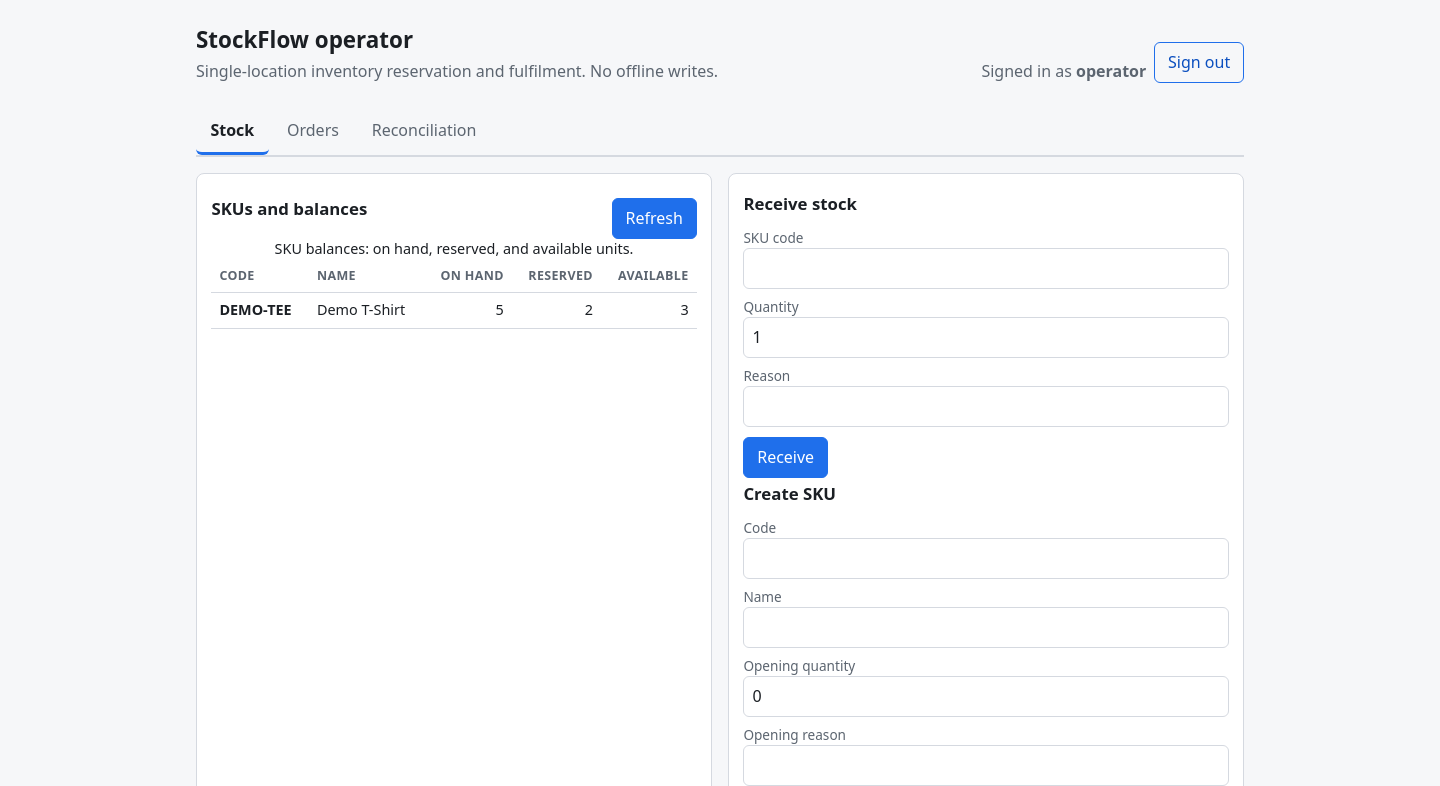
it: App › preserves form values and reports an actionable error when a mutation fails
Expected: the column heading "DEMO-TEE" is shown, [211,293,309,329]
In the field labelled "SKU code": (986, 269) [743,248,1229,289], type "NOPE"
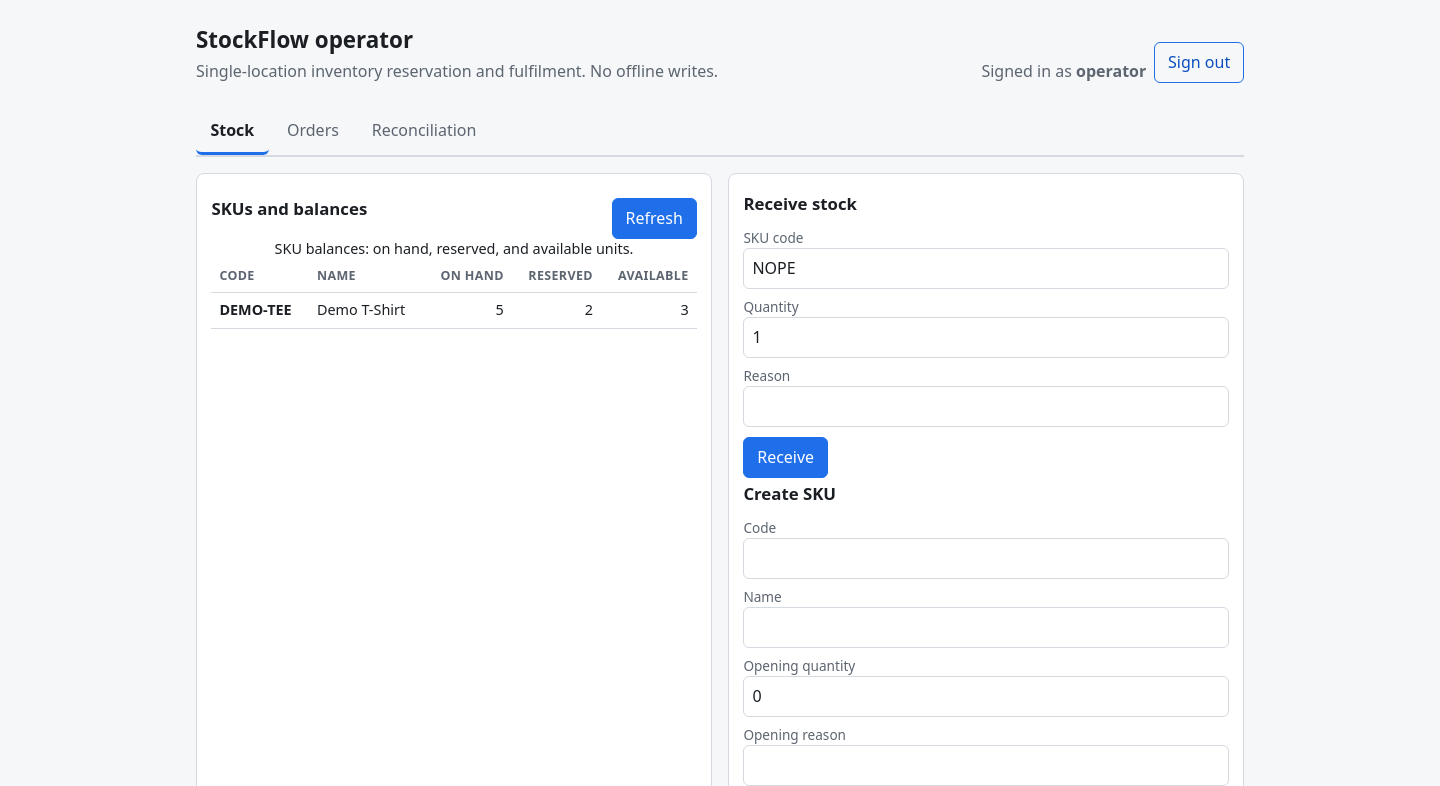
Replace the text in the number field labelled "Quantity" with "4": (986, 338) [743,317,1229,358]
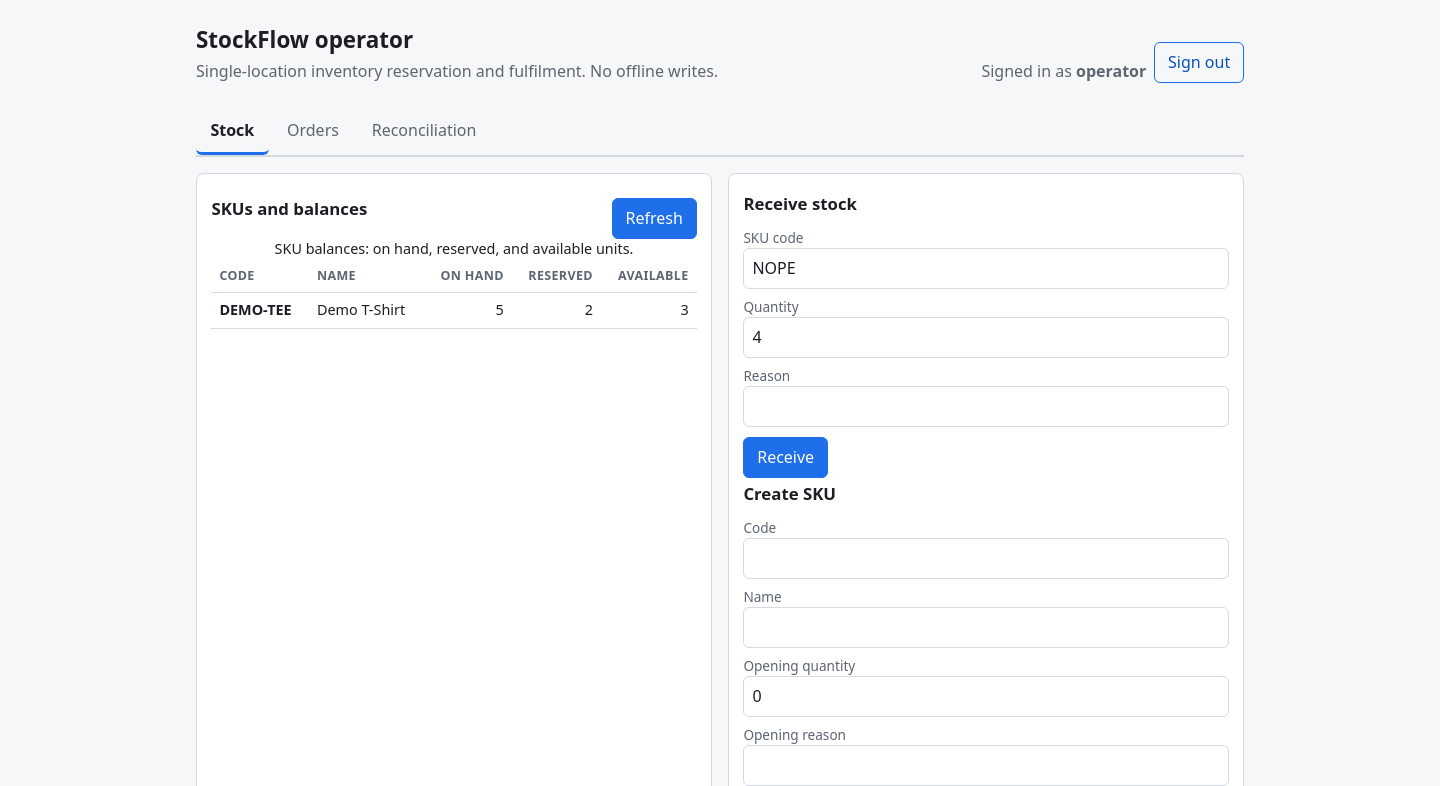
In the field labelled "Reason": (986, 406) [743,386,1229,427], type "supplier delivery"
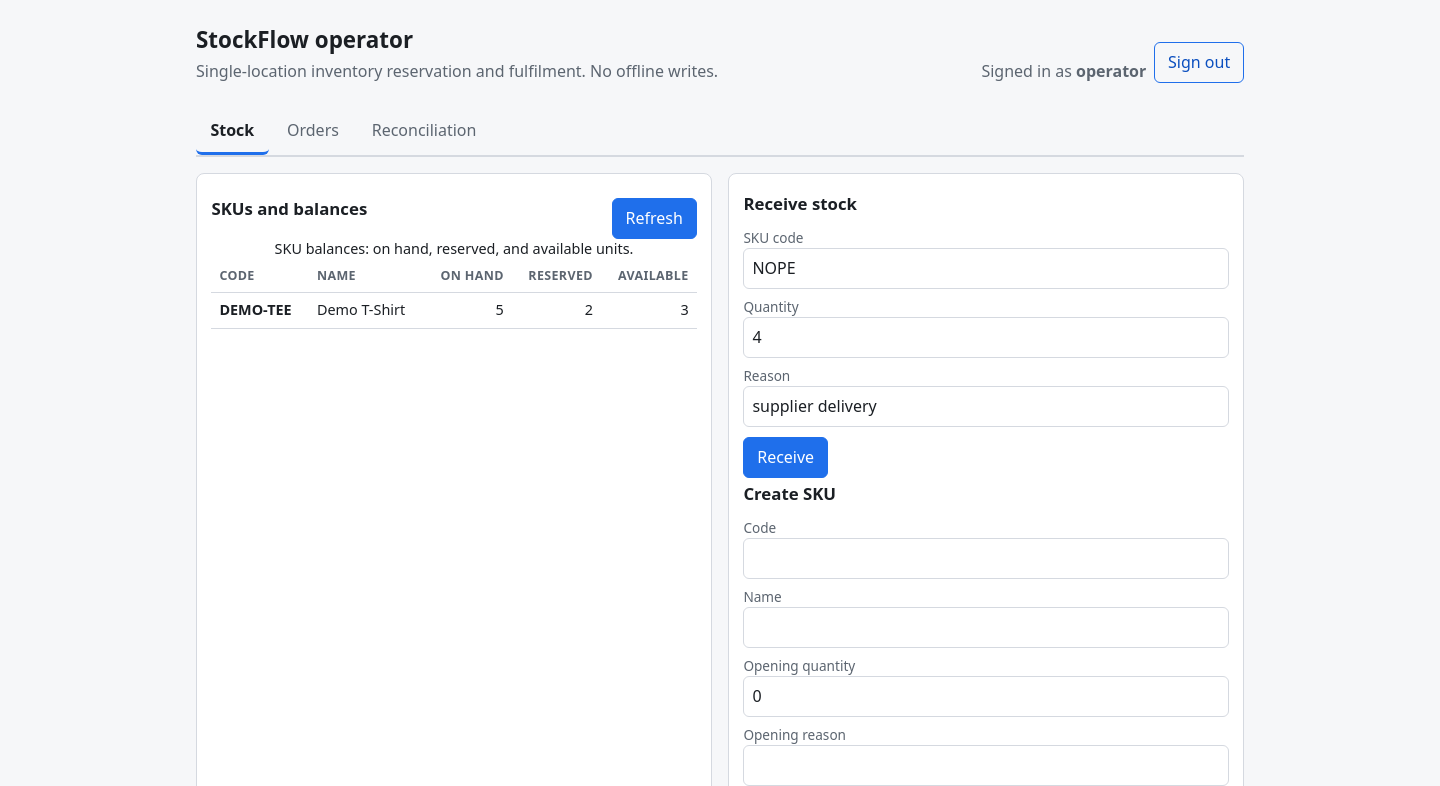
Click the button "Receive": (786, 457) [743,437,828,478]
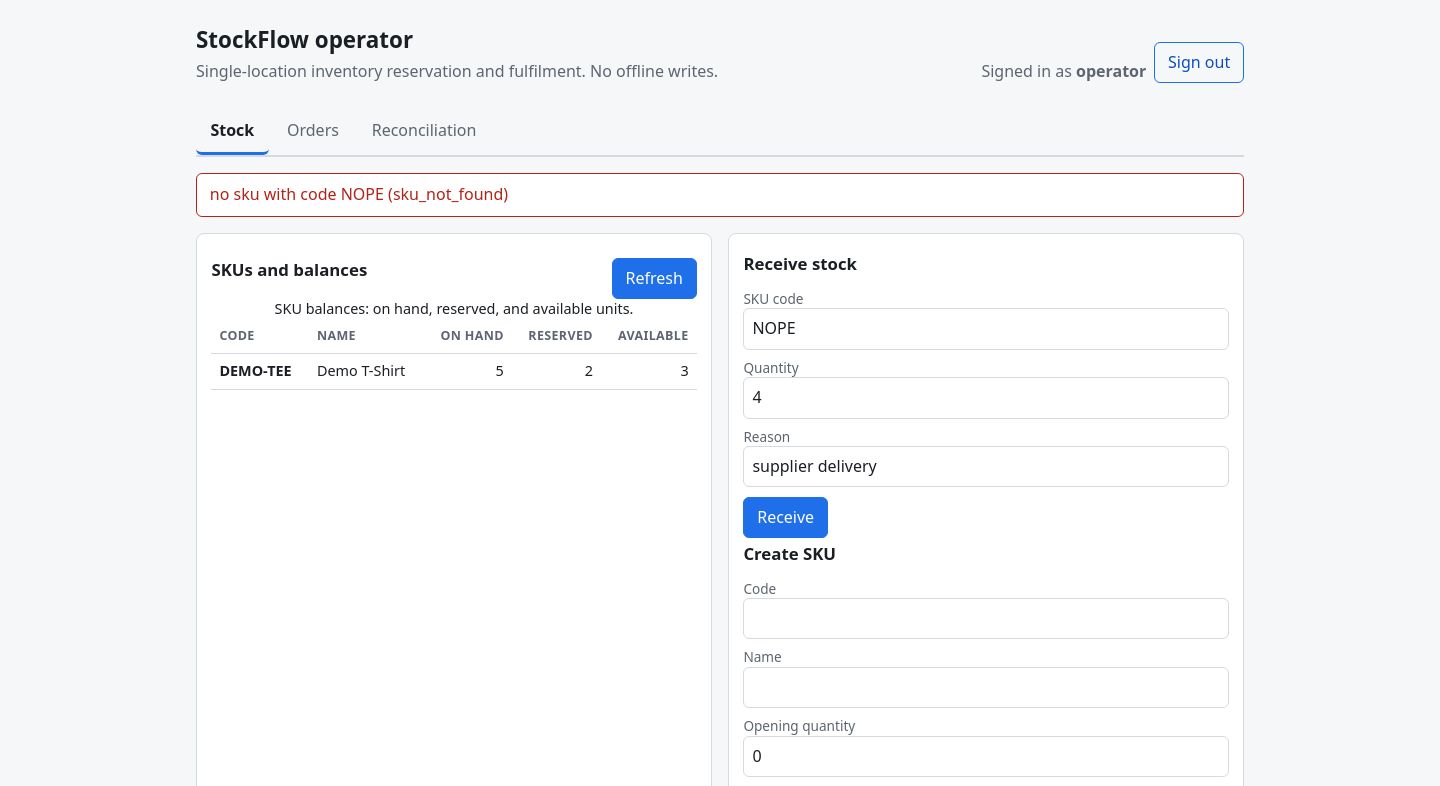
Expected: the message shows "no sku with code NOPE", [210,183,508,205]
Expected: the message shows "sku_not_found", [210,183,508,205]
